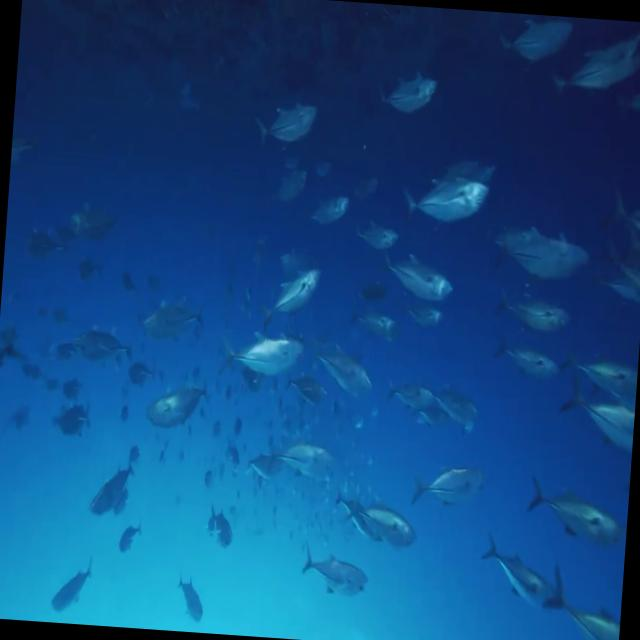fish: (526, 470, 628, 562), (476, 529, 566, 620), (552, 16, 640, 108), (210, 322, 308, 400), (486, 222, 590, 285), (560, 336, 640, 414), (486, 334, 572, 401), (539, 572, 623, 640), (140, 369, 212, 445), (491, 12, 573, 78), (295, 538, 370, 610), (262, 248, 330, 326), (252, 433, 335, 496), (486, 284, 572, 344), (370, 66, 450, 130), (564, 382, 636, 453), (376, 246, 458, 308), (312, 341, 381, 414), (400, 177, 489, 232), (252, 86, 318, 156), (584, 181, 640, 261), (409, 468, 485, 523), (328, 486, 387, 556), (424, 378, 479, 448), (84, 451, 134, 527), (135, 300, 205, 354), (378, 362, 436, 424), (306, 187, 360, 251), (197, 504, 239, 566), (168, 564, 210, 624), (45, 564, 93, 616), (267, 162, 316, 210), (378, 502, 416, 554), (113, 516, 148, 565)
